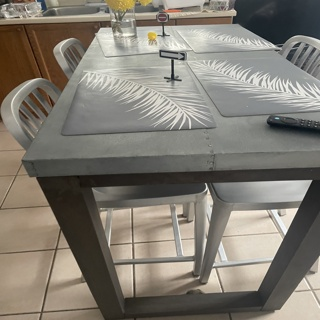sign_noentry: (155, 10, 166, 20)
sign_oneway_right: (158, 45, 185, 59)
